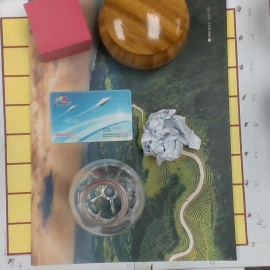bottle: (68, 159, 145, 235)
chess: (96, 1, 190, 71), (48, 88, 135, 144)
